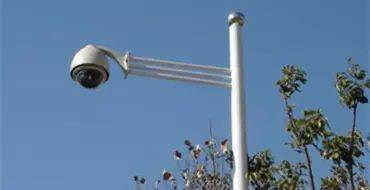camera: (69, 43, 129, 90)
